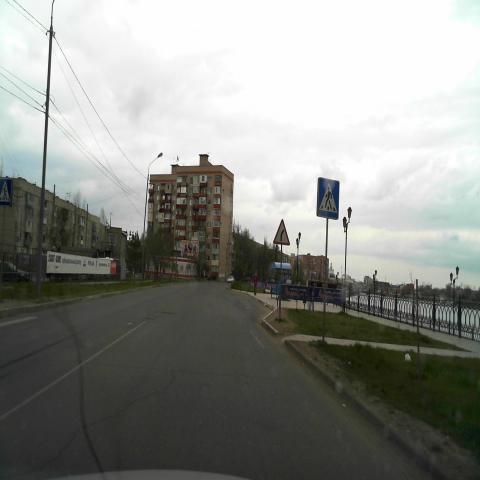1_11: (272, 218, 290, 244)
